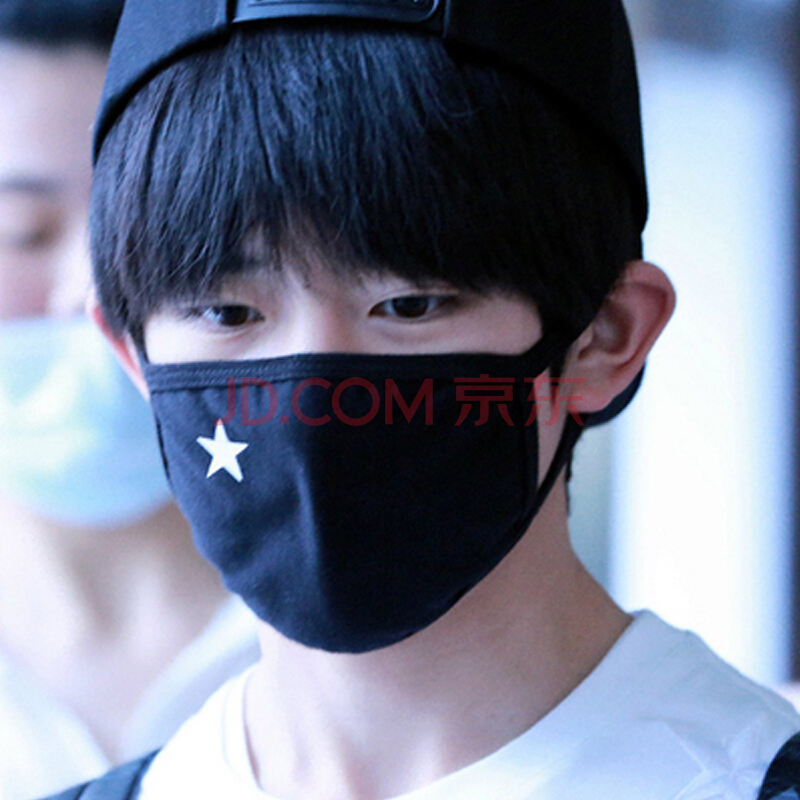face_mask: (144, 179, 527, 657)
